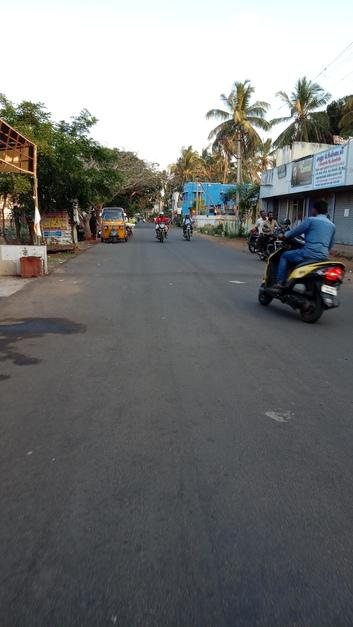speed-bump: (52, 269, 261, 280)
